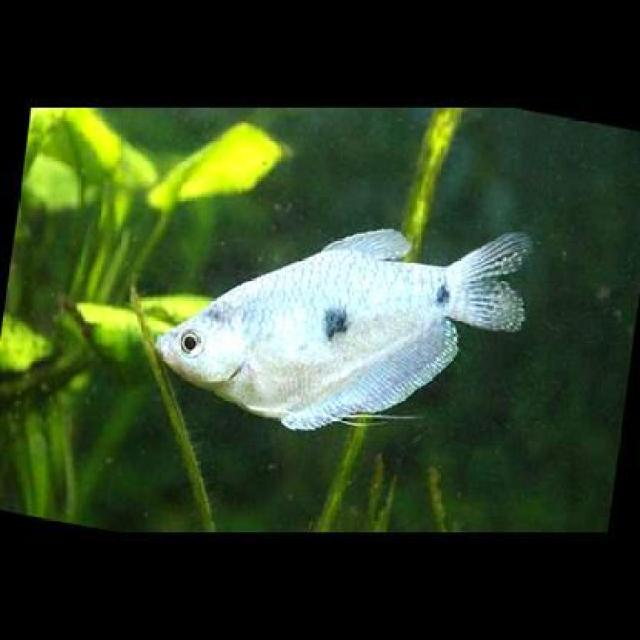Gourami: (152, 219, 538, 433)
